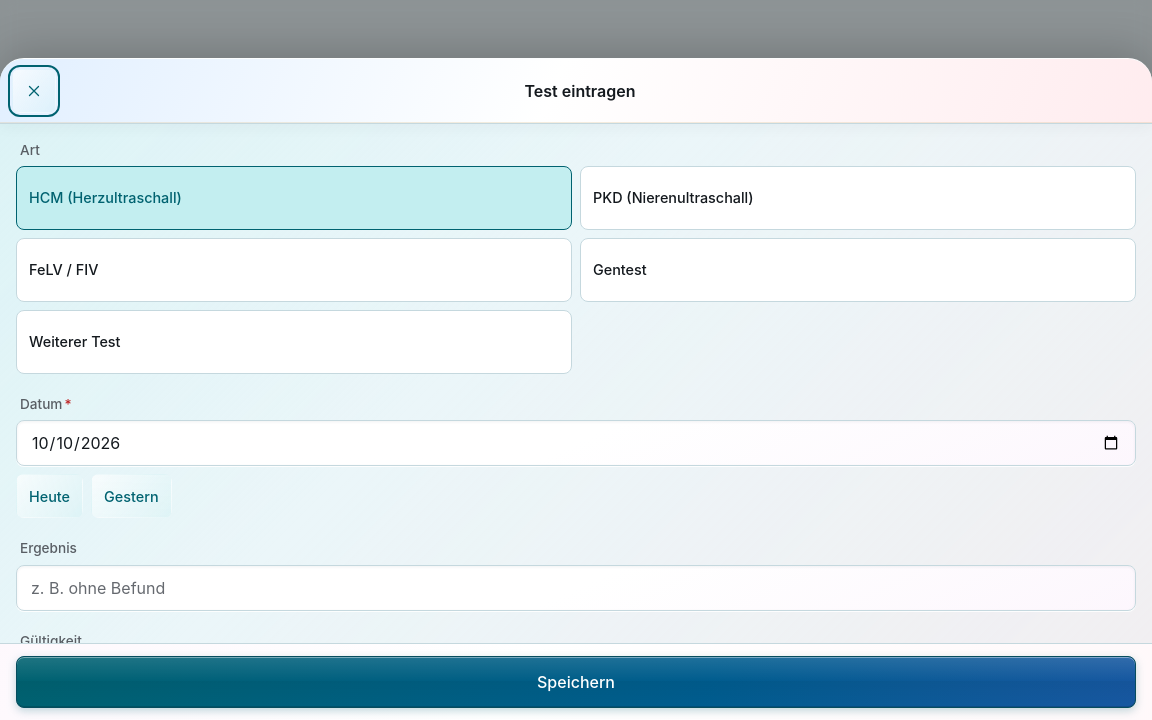
it: HealthTestSheet › zeigt die gerechnete Fälligkeit schon beim Ausfüllen
The width and height of the screenshot is (1152, 720).
Type "2026-01-31" into the date field labelled "Datum*" at (576, 443), box [16,420,1136,466]
(page scrolled)
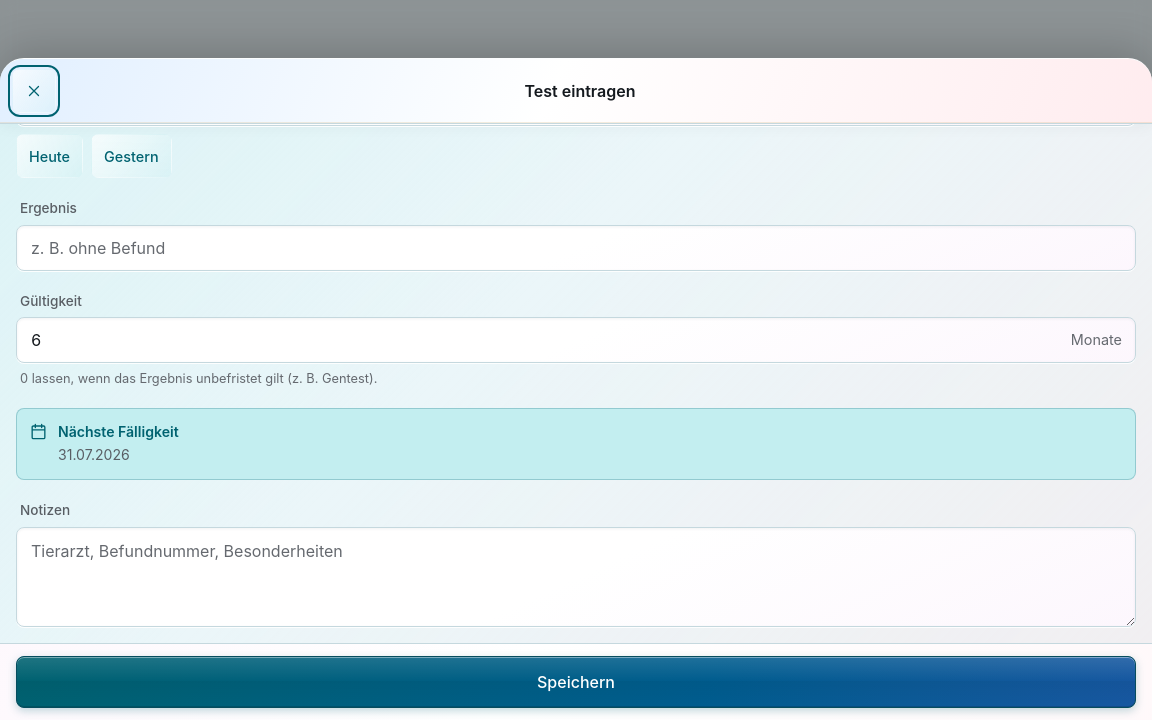
expect the text "31.07.2026" is shown: met, box [58,446,130,463]
